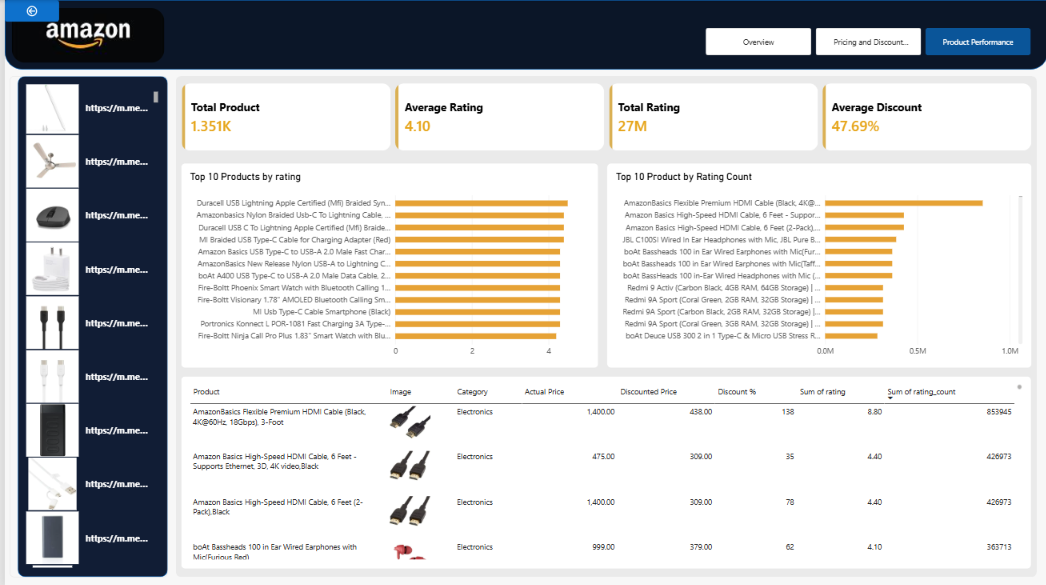

This screenshot's page, from the dashboard's own definition file:
{"tool":"powerbi","page":{"name":"Product Performance","canvas":[1920,1080],"ordinal":2},"visuals":[{"type":"shape","box":[0,0,1920,128],"z":0},{"type":"shape","box":[23.9,139.9,276.1,922.1],"z":1000},{"type":"shape","box":[314.7,139.9,1584.7,922.1],"z":2000},{"type":"cardVisual","fields":{"Data":["Count(amazon.product_id)","Avg(amazon.rating)","Sum(amazon.rating_count)","Avg(amazon.discount_percentage)"]},"box":[325,153.3,1565,125],"z":3000},{"type":"listSlicer","fields":{"Values":["amazon.img_link"]},"box":[9.2,139.9,290.8,922.1],"z":4000},{"type":"image","box":[12,14,281.1,101.1],"z":5000},{"type":"barChart","title":"Top 10 Product by Rating Count","fields":{"Category":["amazon.product_name"],"Y":["Sum(amazon.rating_count)"]},"box":[1107.5,300.6,782.7,377.2],"z":6000},{"type":"barChart","title":"Top 10 Products by rating","fields":{"Category":["amazon.product_name"],"Y":["Avg(amazon.rating)"]},"box":[324.8,300.6,768.6,377.2],"z":7000},{"type":"tableEx","fields":{"Values":["amazon.product_name","amazon.img_link","amazon.category.1","Sum(amazon.actual_price)","Sum(amazon.discounted_price)","Sum(amazon.Discount %)","Sum(amazon.rating)","Sum(amazon.rating_count)"]},"box":[324.8,691.9,1565.4,355],"z":8000},{"type":"actionButton","box":[0,0,100,40],"z":9000},{"type":"pageNavigator","box":[1290.2,51.5,600,50],"z":10000}]}

Visuals, with their boxes on the page's 1920x1080 design canvas (x1, y1, x2, y2). These are canvas units, not pixel positions in the 1046x585 screenshot, which may show the page scaled, cropped or inside an application window:
shape: box=[0, 0, 1920, 128]
shape: box=[24, 140, 300, 1062]
shape: box=[315, 140, 1899, 1062]
cardVisual - Count(amazon.product_id) x Avg(amazon.rating): box=[325, 153, 1890, 278]
listSlicer - amazon.img_link: box=[9, 140, 300, 1062]
image: box=[12, 14, 293, 115]
"Top 10 Product by Rating Count" barChart: box=[1108, 301, 1890, 678]
"Top 10 Products by rating" barChart: box=[325, 301, 1093, 678]
tableEx - amazon.product_name x amazon.img_link: box=[325, 692, 1890, 1047]
actionButton: box=[0, 0, 100, 40]
pageNavigator: box=[1290, 52, 1890, 102]
